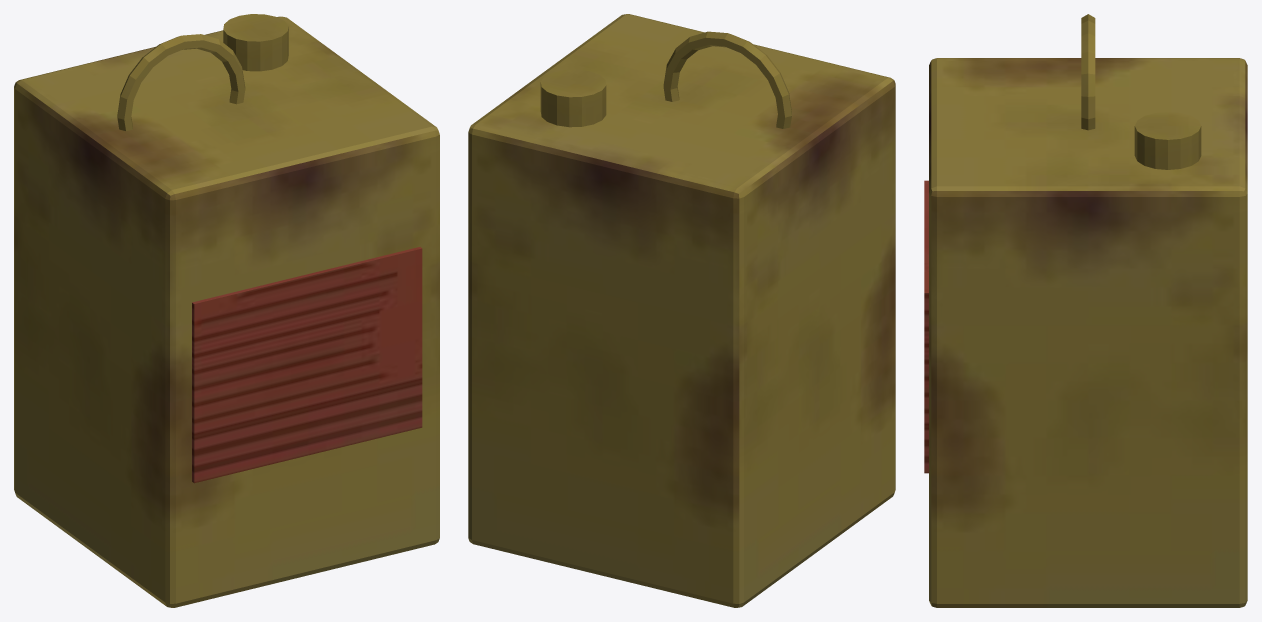
File: FD19_CookingOilTin.glb
3 renders of one model, left to right at view 1: azimuth 30°, elevation 25°; view 2: azimuth 150°, elevation 25°; view 3: azimuth 270°, elevation 25°, orthographic.
Visible parts, largest first — view 1: FD19_CookingOilTin; view 2: FD19_CookingOilTin; view 3: FD19_CookingOilTin.
Part boxes in pixels (box(x1,y1,x2,y2)): FD19_CookingOilTin: box(14, 14, 439, 607); FD19_CookingOilTin: box(468, 14, 895, 607); FD19_CookingOilTin: box(924, 14, 1247, 607).
Size of the model in its own units: 0.2019 by 0.35 by 0.2049.
2 materials, 2 textured.
